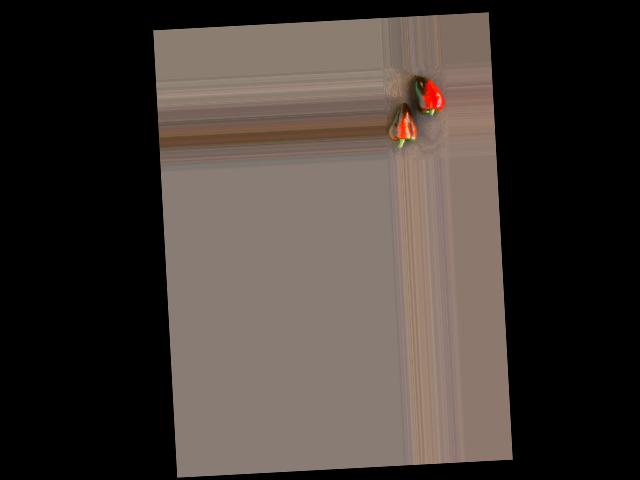bell_pepper: (411, 71, 447, 130)
